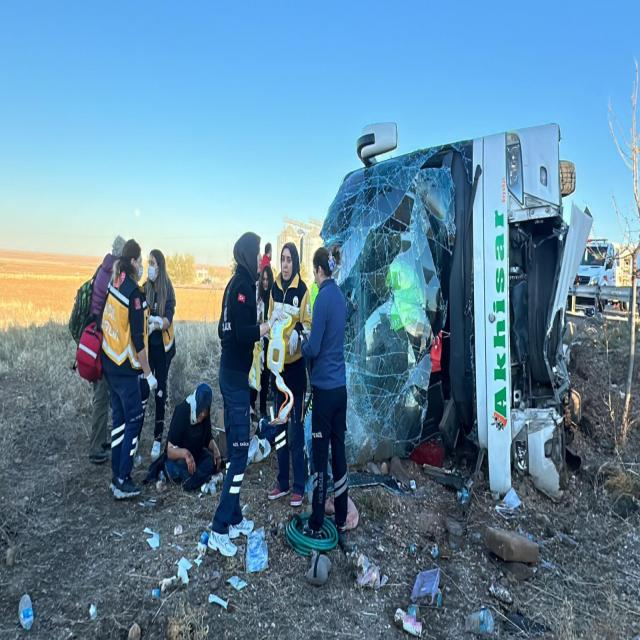Accident: (293, 121, 594, 521)
